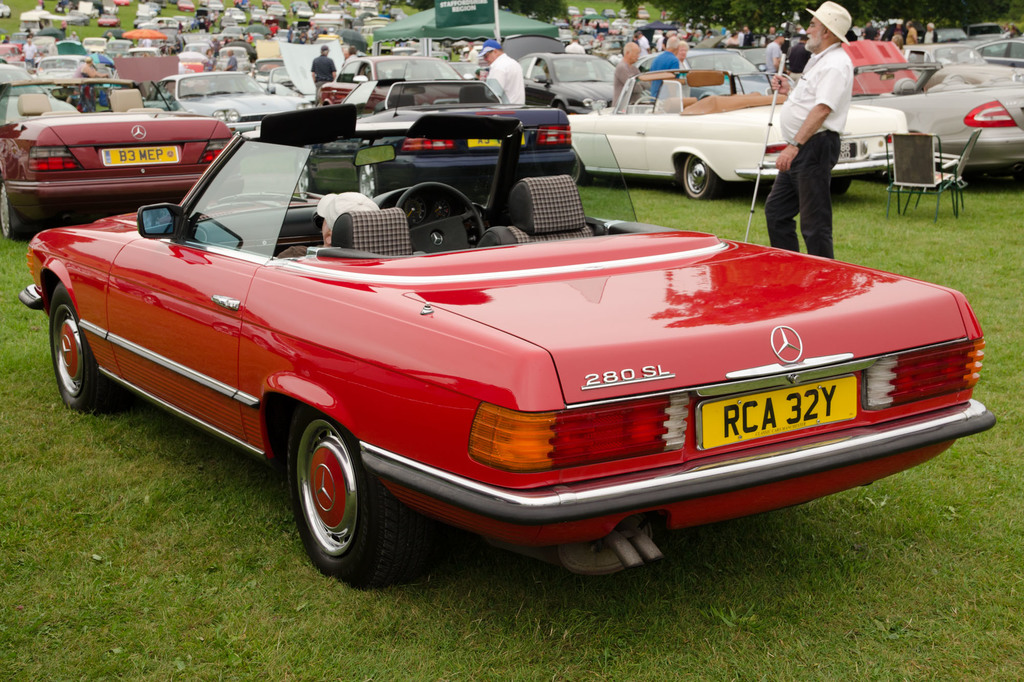Person: (0, 0, 938, 85), (762, 0, 856, 257), (609, 40, 673, 102), (475, 38, 526, 103), (651, 35, 685, 102), (311, 44, 336, 103), (672, 37, 691, 97)
